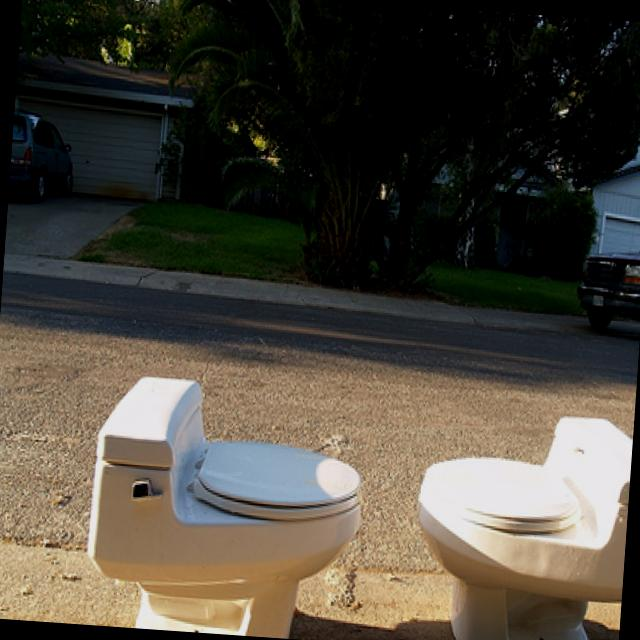Vehicle: (576, 217, 640, 335), (7, 112, 81, 214)
